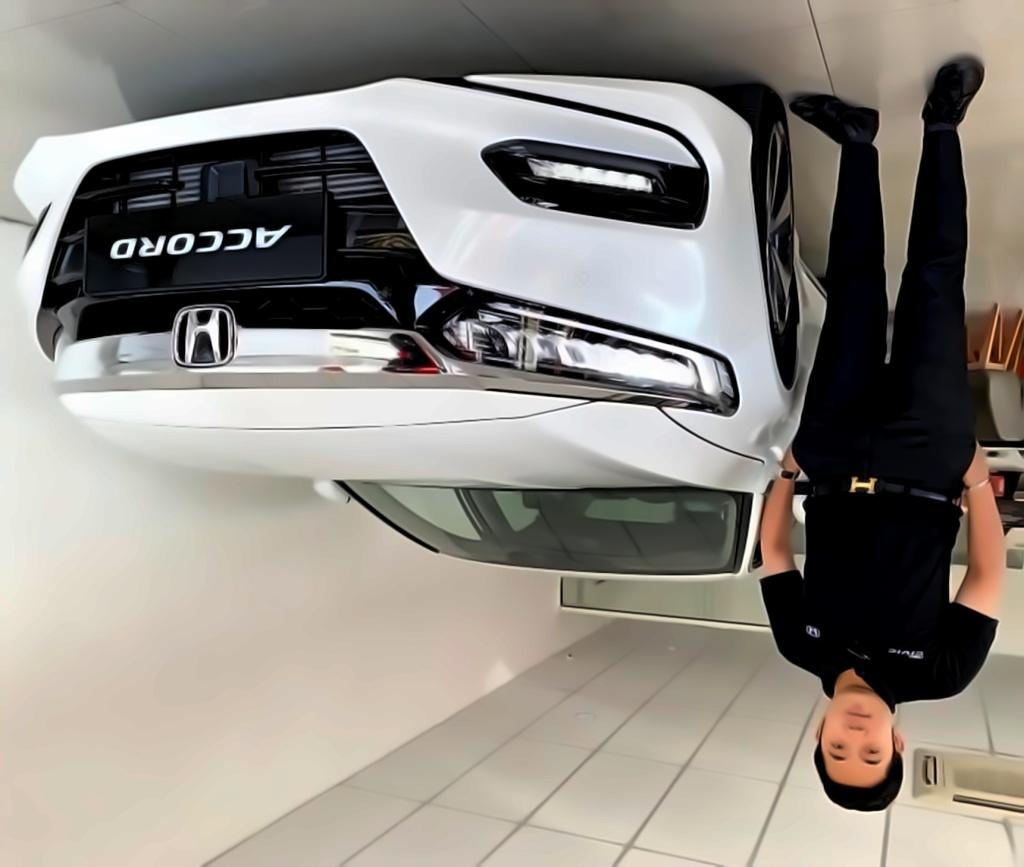Car hood: (60, 382, 776, 494)
Front bumper: (10, 64, 778, 287)
Headlight - -R-: (404, 271, 756, 427)
